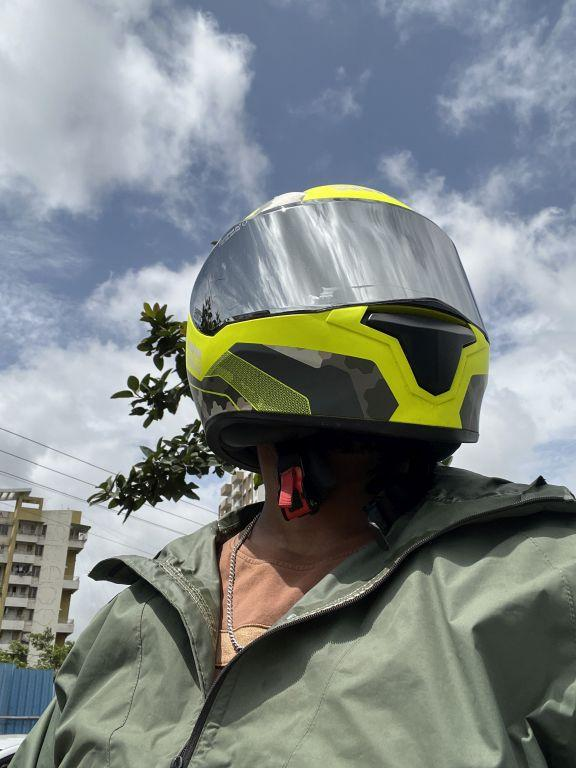helmet: (162, 172, 506, 482)
